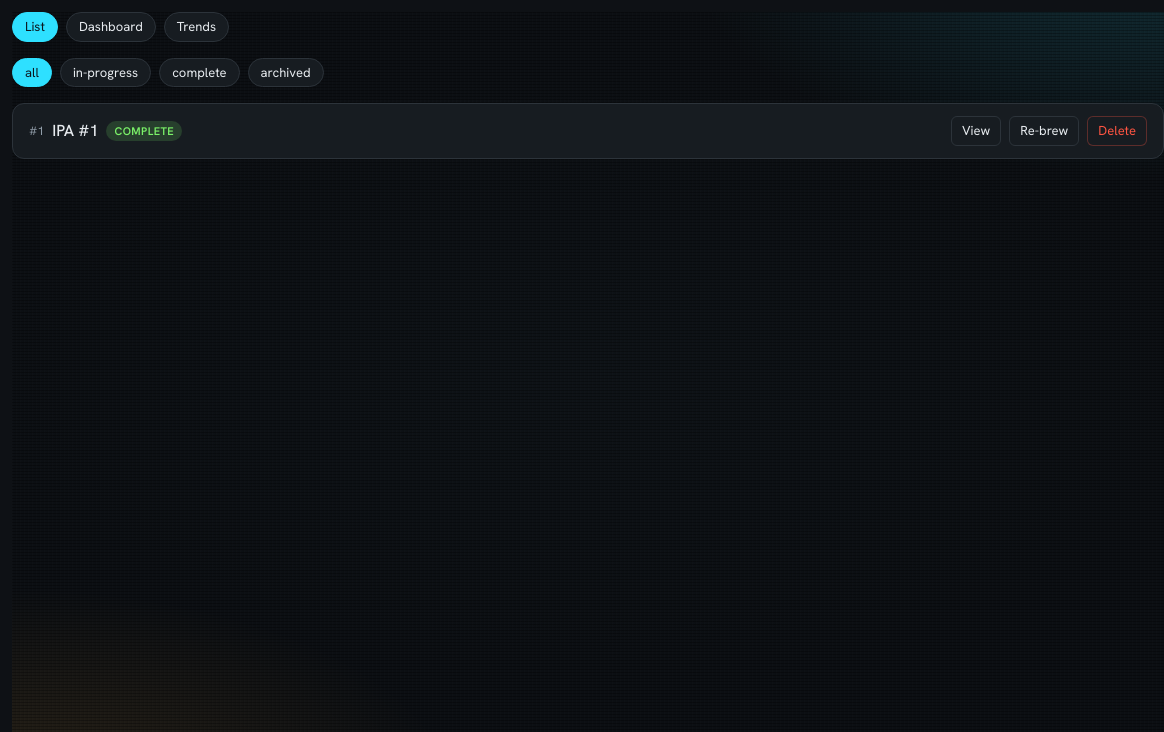
Test case: LogbookView tab bar › switches to the Dashboard view on click
This screenshot has width=1164, height=732.
Click the button "Dashboard".
click(111, 27)  # box x1=66 y1=12 x2=156 y2=42
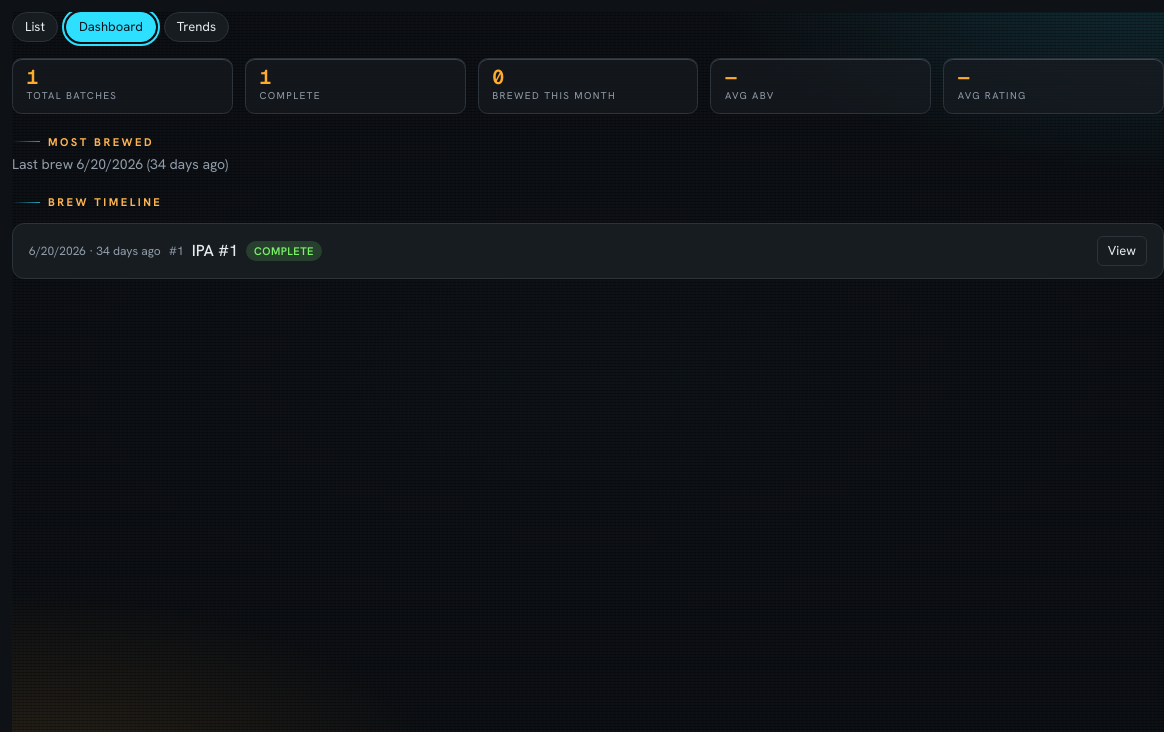
Result: the text "Brew timeline" is shown at x1=48 y1=195 x2=162 y2=209
Result: the text "Total batches" is shown at x1=27 y1=89 x2=117 y2=102
Result: the button "Re-brew" is gone
